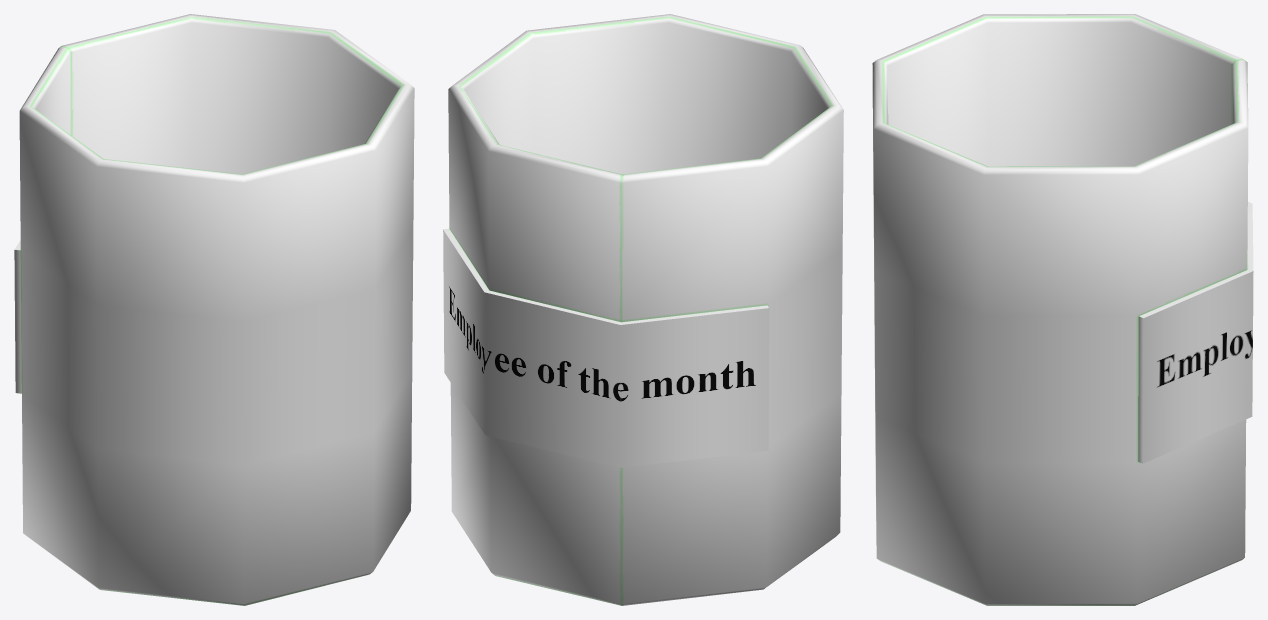
The model's file is coffeemug.FBX.
The picture shows the model from 3 angles, left to right: view 1: azimuth 30°, elevation 25°; view 2: azimuth 150°, elevation 25°; view 3: azimuth 270°, elevation 25°; orthographic projection.
Parts seen in each view (by area): view 1: Cylinder001; view 2: Cylinder001; view 3: Cylinder001.
Boxes of the visible parts, bbox=[...] form: Cylinder001: bbox=[14, 14, 414, 605]; Cylinder001: bbox=[443, 14, 843, 605]; Cylinder001: bbox=[872, 14, 1253, 605].
Bounding box in the file's own units: 0.2351 × 0.2971 × 0.2343.
1 material, 1 textured.
